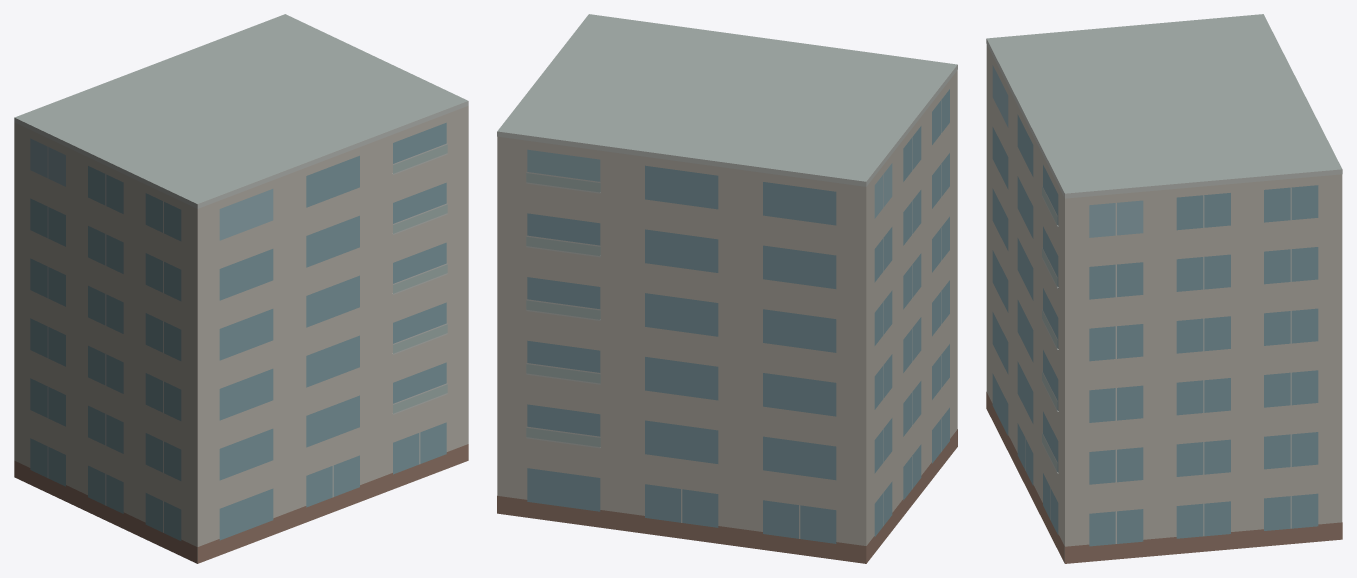
File: survey-upis-32696856.glb
3 views of the same model, side by side, from view 1: azimuth 30°, elevation 25°; view 2: azimuth 150°, elevation 25°; view 3: azimuth 270°, elevation 25° (orthographic). The views are drawn at different scales.
Parts seen in each view (by area): view 1: survey-upis-32696856.tmp; view 2: survey-upis-32696856.tmp; view 3: survey-upis-32696856.tmp.
Boxes of the visible parts, x1,y1,x2,y2 form: survey-upis-32696856.tmp: [14, 14, 468, 563]; survey-upis-32696856.tmp: [497, 14, 957, 563]; survey-upis-32696856.tmp: [986, 14, 1342, 563].
Bounding box in the file's own units: 19.06 × 18.3 × 15.96.
